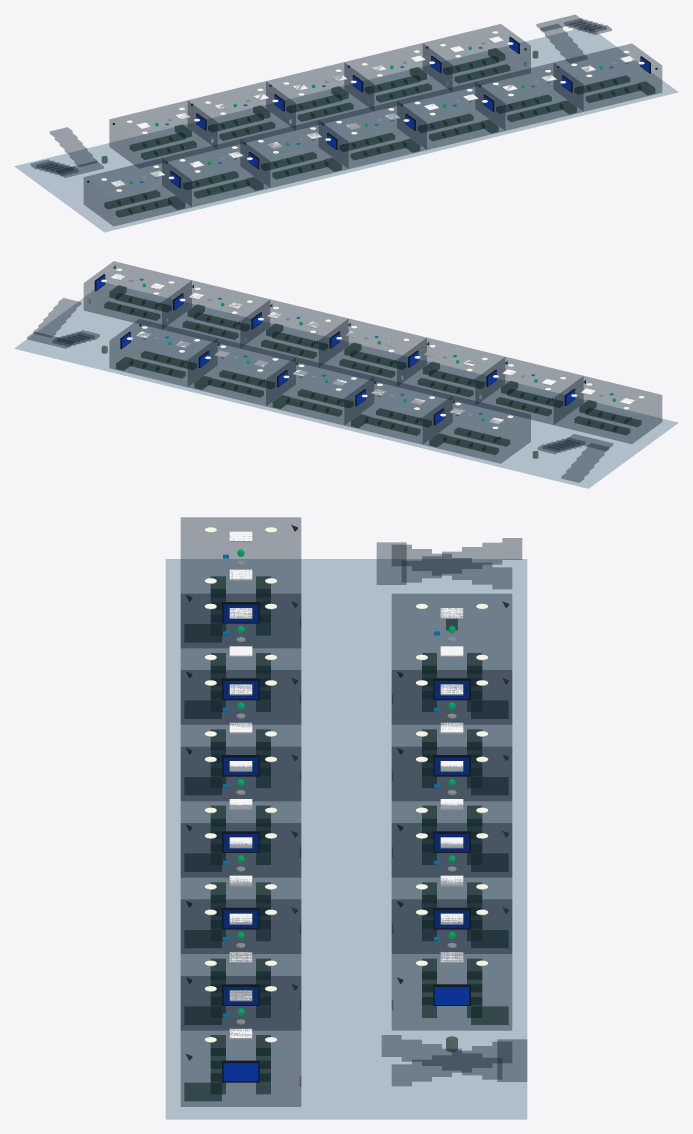
File: FloorType2_Middle.glb
3 views of the same model, one above another, from view 1: azimuth 30°, elevation 25°; view 2: azimuth 150°, elevation 25°; view 3: azimuth 270°, elevation 25° (orthographic). The views are drawn at different scales.
Visible parts, largest first — view 1: object 1, object 150, object 16, object 198, object 222, object 270, object 294, object 174, object 64, object 88, object 246, object 40 (+3 smaller); view 2: object 1, object 16, object 150, object 40, object 112, object 88, object 64, object 246, object 222, object 198, object 174, object 270 (+3 smaller); view 3: object 1, object 112, object 294, object 270, object 40, object 198, object 88, object 64, object 222, object 246, object 174, object 16 (+3 smaller).
Boxes of the visible parts, x1,y1,x2,y2 form: object 1: [15, 29, 677, 231]; object 150: [84, 158, 191, 225]; object 16: [109, 100, 217, 168]; object 198: [240, 120, 348, 187]; object 222: [319, 101, 426, 168]; object 270: [475, 63, 583, 130]; object 294: [554, 43, 661, 111]; object 174: [162, 139, 269, 206]; object 64: [266, 62, 373, 129]; object 88: [344, 43, 452, 110]; object 246: [397, 82, 504, 149]; object 40: [188, 81, 295, 148]; object 1: [15, 283, 677, 488]; object 16: [423, 395, 530, 463]; object 150: [554, 376, 661, 443]; object 40: [344, 376, 452, 444]; object 112: [109, 319, 217, 386]; object 88: [188, 338, 295, 405]; object 64: [266, 357, 373, 425]; object 246: [240, 299, 348, 366]; object 222: [319, 319, 426, 386]; object 198: [397, 338, 504, 405]; object 174: [475, 357, 583, 424]; object 270: [162, 280, 269, 347]; object 1: [166, 559, 526, 1119]; object 112: [392, 899, 511, 1030]; object 294: [181, 976, 300, 1106]; object 270: [181, 899, 300, 1030]; object 40: [392, 670, 511, 800]; object 198: [181, 670, 300, 800]; object 88: [392, 823, 511, 953]; object 64: [392, 747, 511, 877]; object 222: [181, 747, 300, 877]; object 246: [181, 823, 300, 953]; object 174: [181, 594, 300, 724]; object 16: [392, 594, 511, 724].
Bounding box in the file's own units: 88 × 4.01 × 24.
